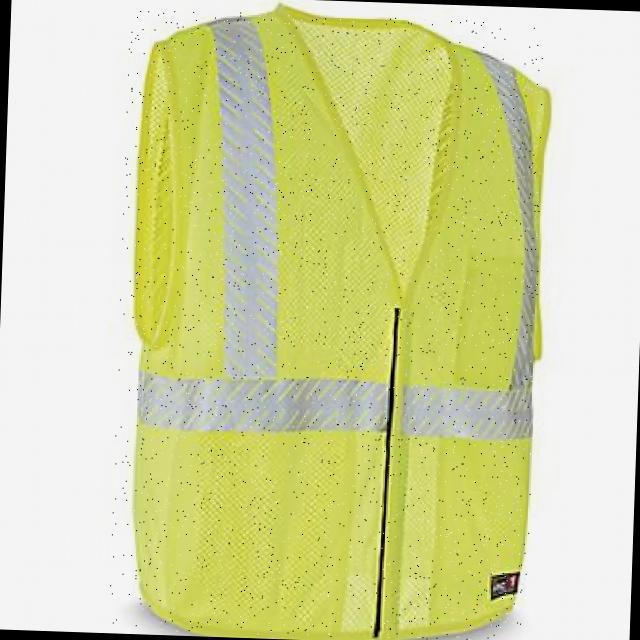vest: (108, 8, 546, 640)
